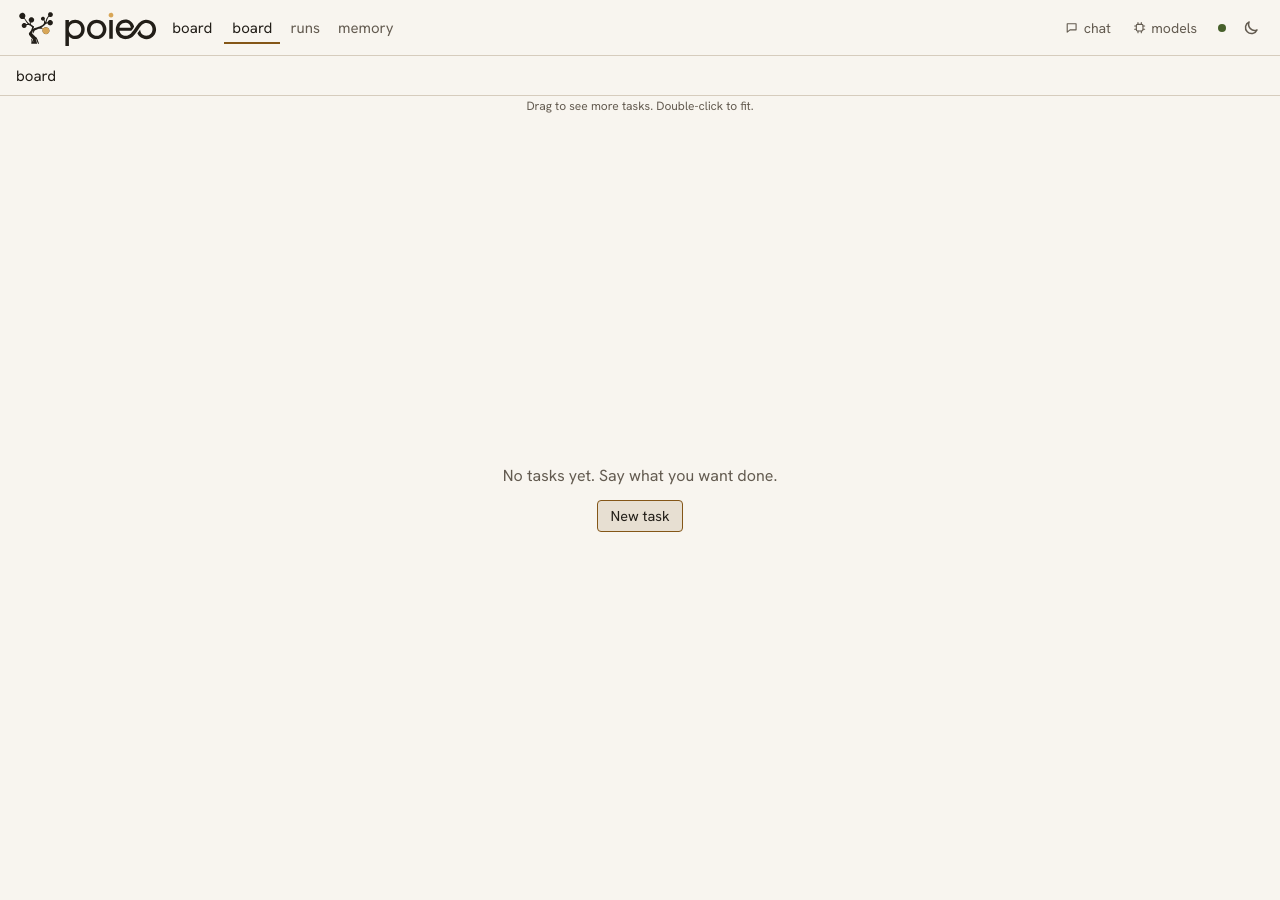
Scenario: no tasks renders the invitation, not an error
Click the button "New task" at (640, 516), box [597, 500, 683, 532]
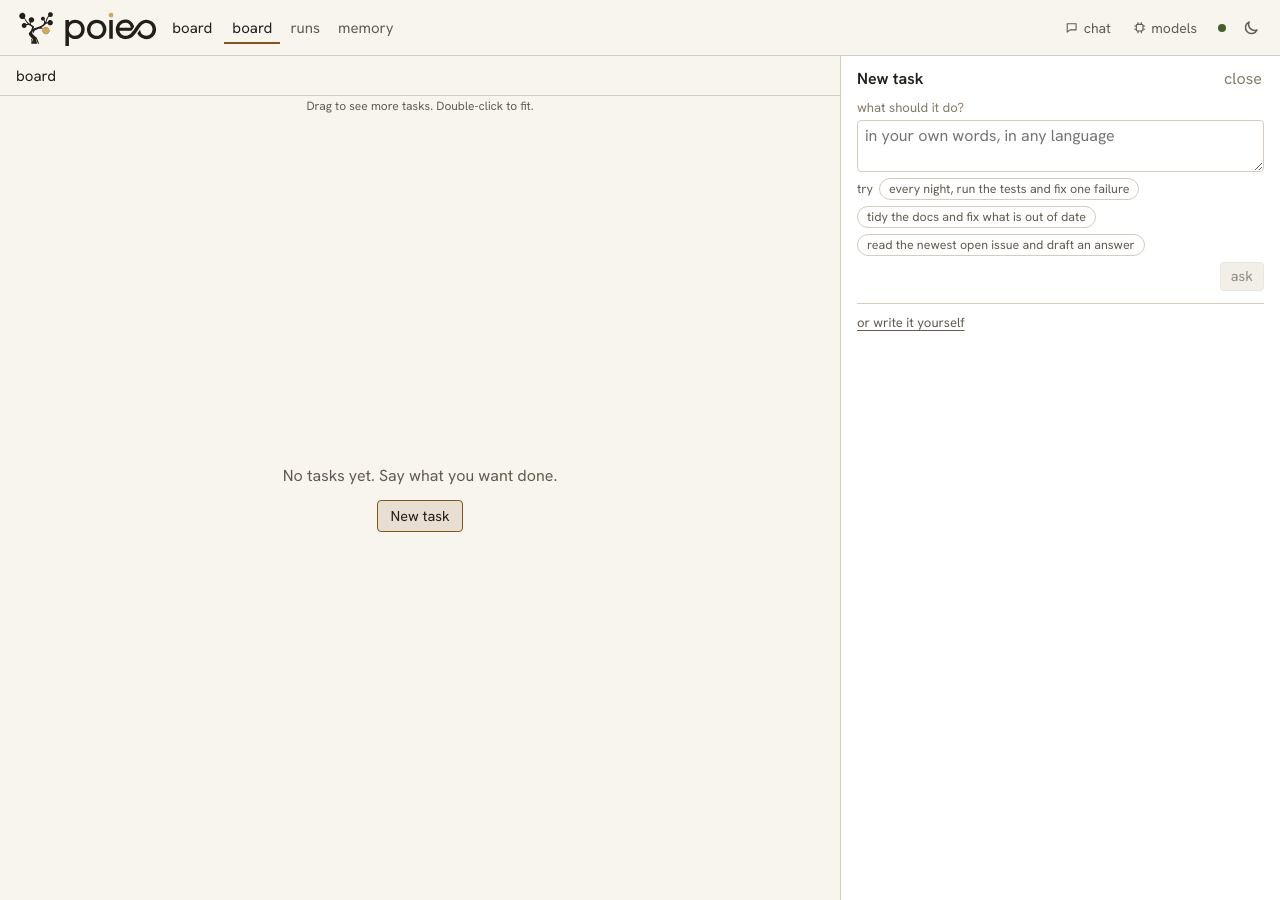
Result: the element named "New task" is shown at [840, 56, 1279, 899]
